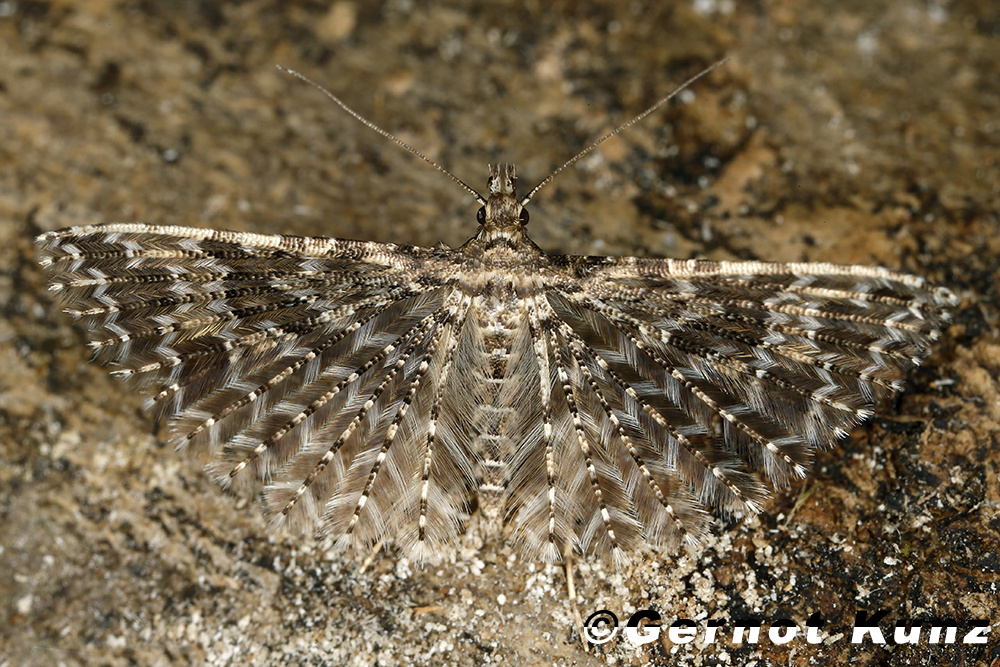Alucitidae: (45, 54, 973, 650)
moth: (43, 52, 971, 648)
